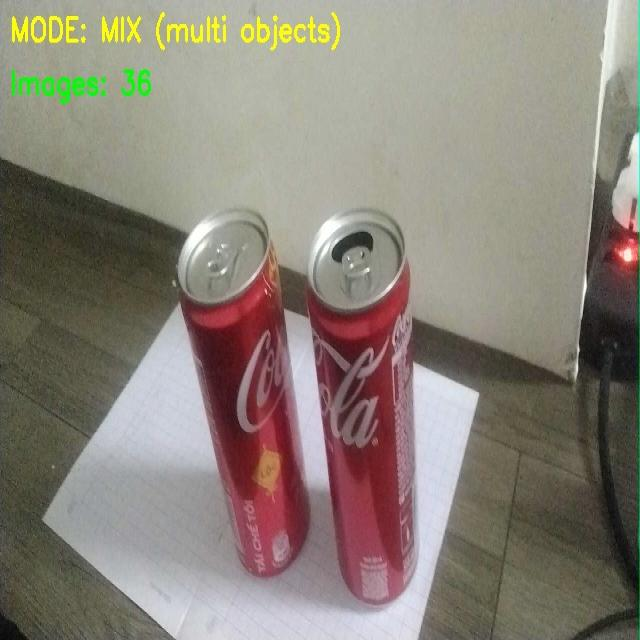Coca: (170, 179, 308, 589)
Coca_open: (314, 182, 475, 618)
